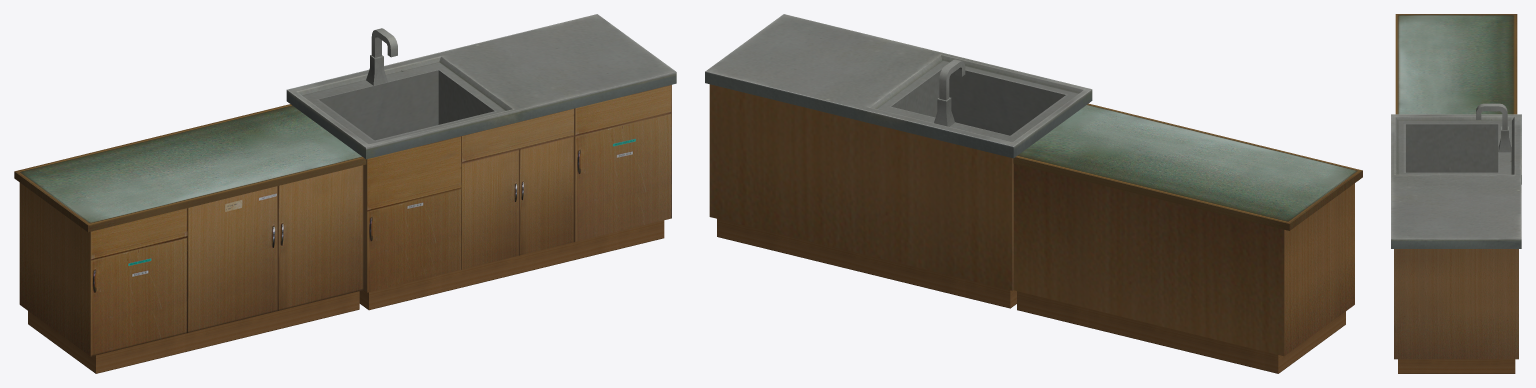
Rendered from Sink.FBX.
3 renders of one model, left to right at view 1: azimuth 30°, elevation 25°; view 2: azimuth 150°, elevation 25°; view 3: azimuth 270°, elevation 25°, orthographic. The views are drawn at different scales.
Parts seen in each view (by area): view 1: Sink; view 2: Sink; view 3: Sink.
Boxes of the visible parts, x1,y1,x2,y2 form: Sink: [14, 14, 676, 373]; Sink: [705, 14, 1362, 373]; Sink: [1391, 14, 1521, 373].
Size of the model in its own units: 2.79 by 0.9896 by 0.6535.
